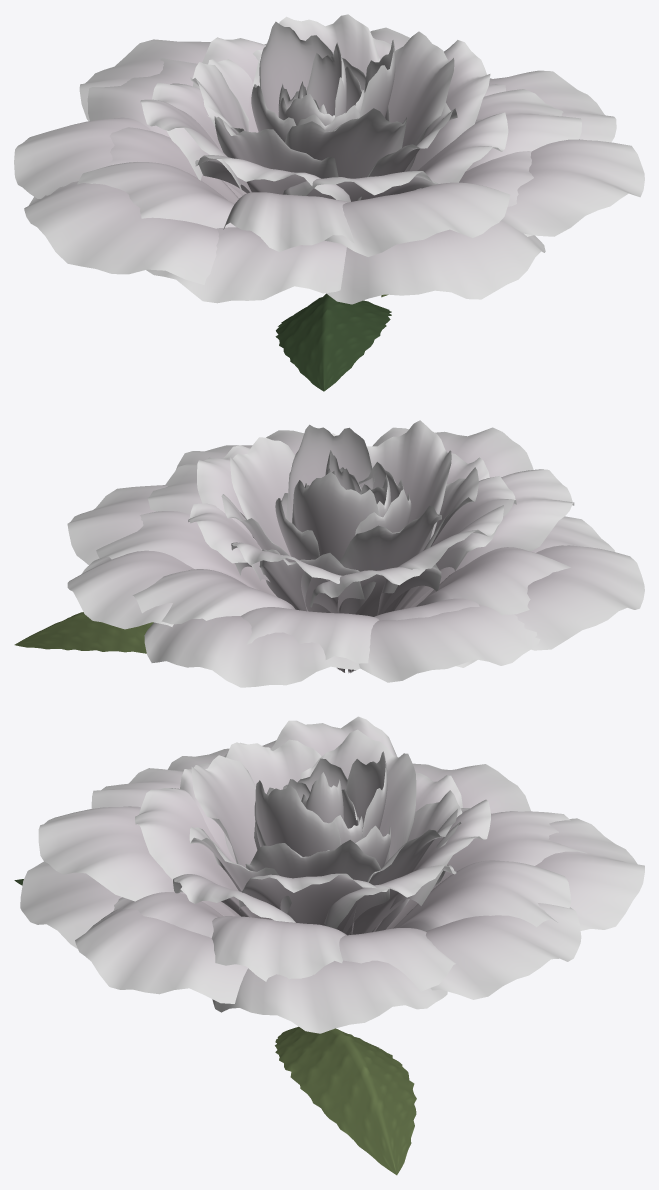
File: peony.glb
The picture shows the model from 3 angles, top to bottom: view 1: azimuth 30°, elevation 25°; view 2: azimuth 150°, elevation 25°; view 3: azimuth 270°, elevation 25°; orthographic projection. The views are drawn at different scales.
Visible parts, largest first — view 1: Petals, Leaf; view 2: Petals, Leaf; view 3: Petals, Leaf.
Part boxes in pixels (x1,y1,x2,y2): Petals: (14,14,644,304); Leaf: (275,293,391,391); Petals: (67,420,644,687); Leaf: (14,612,153,653); Petals: (20,716,644,1033); Leaf: (275,1026,416,1175).
Size of the model in its own units: 1.07 by 0.4425 by 0.9661.
